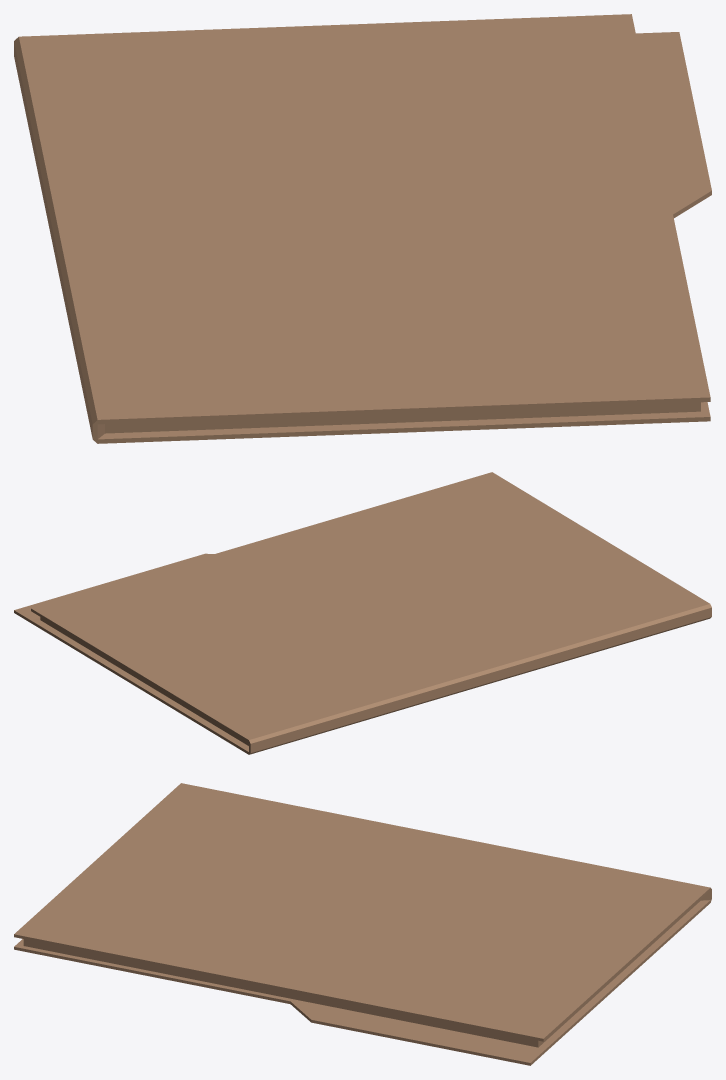
The model's file is documento.fbx.
The picture shows the model from 3 angles, top to bottom: view 1: azimuth 30°, elevation 25°; view 2: azimuth 150°, elevation 25°; view 3: azimuth 270°, elevation 25°; orthographic projection. The views are drawn at different scales.
Parts seen in each view (by area): view 1: documento; view 2: documento; view 3: documento.
Boxes of the visible parts, left/top/right/bottom form: documento: left=14, top=14, right=711, bottom=443; documento: left=14, top=472, right=711, bottom=754; documento: left=14, top=783, right=711, bottom=1065.
Bounding box in the file's own units: 30.23 × 0.8054 × 33.18.
